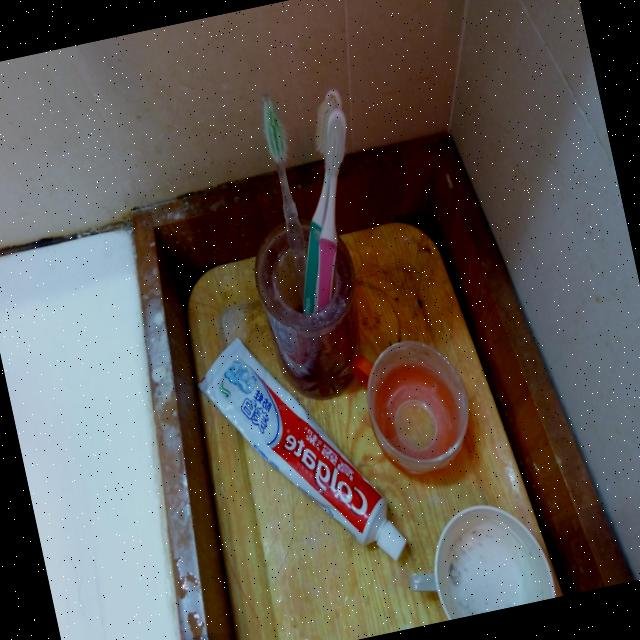Toothpaste: (192, 308, 410, 592)
